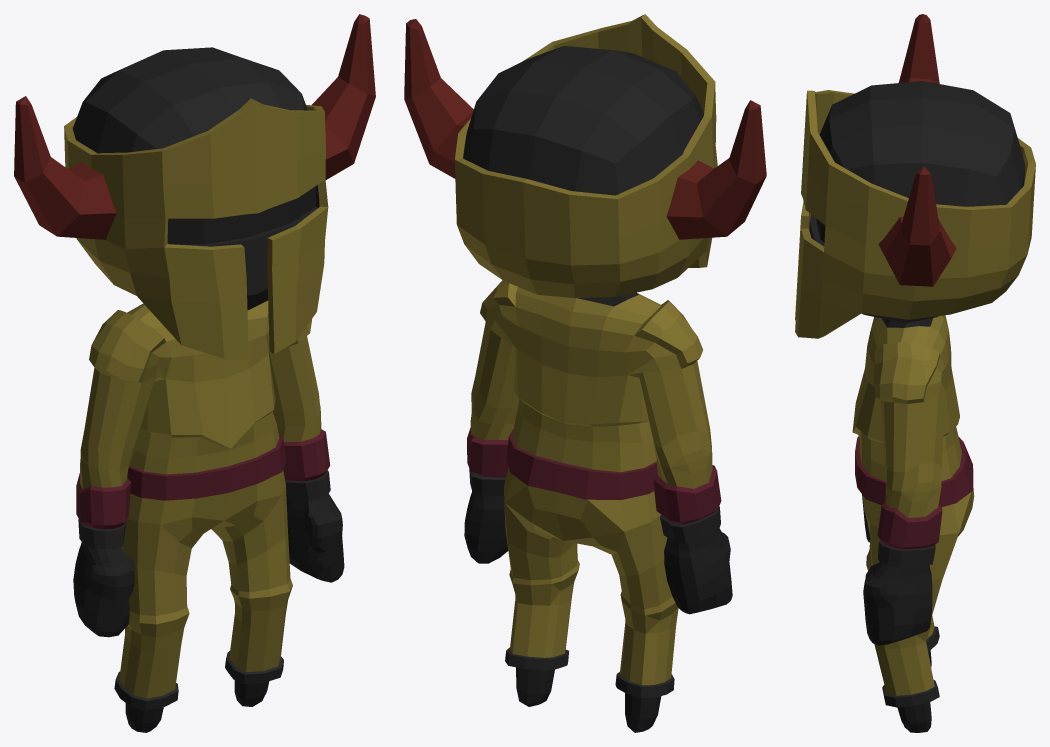
The model's file is Knight_Golden_Male.glb.
The picture shows the model from 3 angles, left to right: view 1: azimuth 30°, elevation 25°; view 2: azimuth 150°, elevation 25°; view 3: azimuth 270°, elevation 25°; orthographic projection. The views are drawn at different scales.
Visible parts, largest first — view 1: Body_Cube.004; view 2: Body_Cube.004; view 3: Body_Cube.004.
Part boxes in pixels (left/top/right/bottom): Body_Cube.004: left=14, top=14, right=375, bottom=732; Body_Cube.004: left=404, top=14, right=766, bottom=732; Body_Cube.004: left=795, top=14, right=1035, bottom=732.
Bounding box in the file's own units: 1.76 × 3.16 × 1.12.
